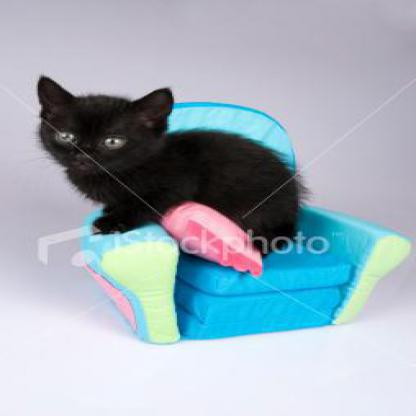cat: (34, 74, 296, 262)
